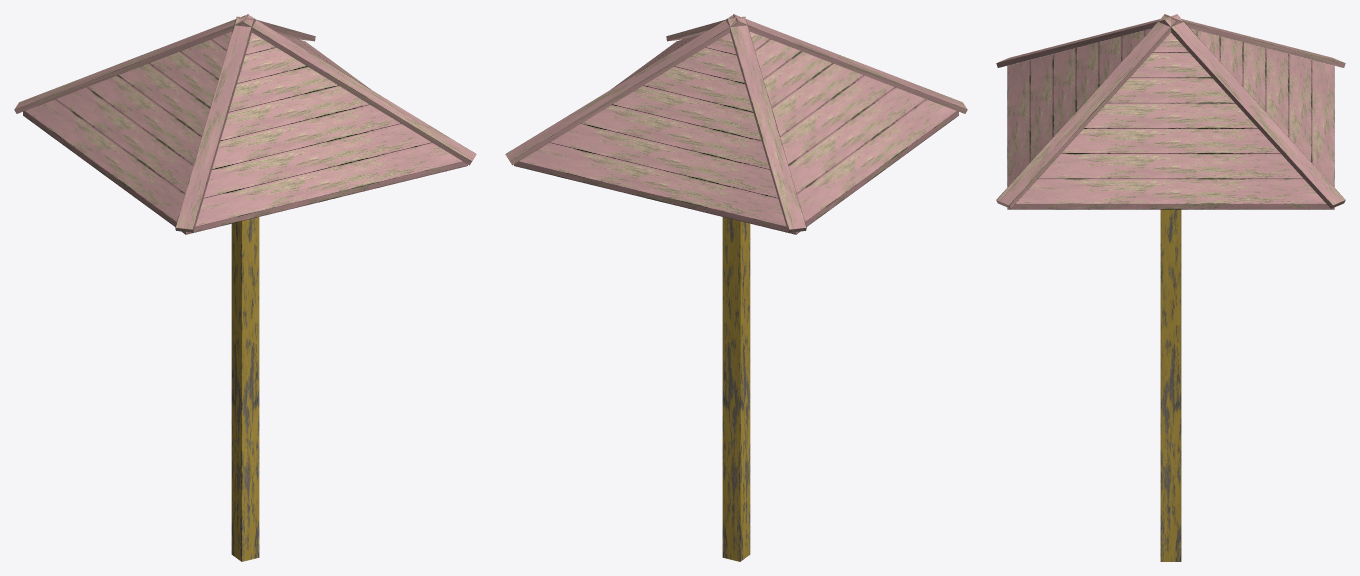
Rendered from playground_gribok_lod1_web.glb.
3 views of the same model, side by side, from view 1: azimuth 30°, elevation 25°; view 2: azimuth 150°, elevation 25°; view 3: azimuth 270°, elevation 25° (orthographic).
Visible parts, largest first — view 1: Gribok_Mesh; view 2: Gribok_Mesh; view 3: Gribok_Mesh.
Boxes of the visible parts, x1,y1,x2,y2 form: Gribok_Mesh: [14, 14, 476, 561]; Gribok_Mesh: [505, 14, 967, 561]; Gribok_Mesh: [996, 14, 1345, 561].
Size of the model in its own units: 1.71 by 2.92 by 1.71.
Materials: 3 (3 with a texture image).
